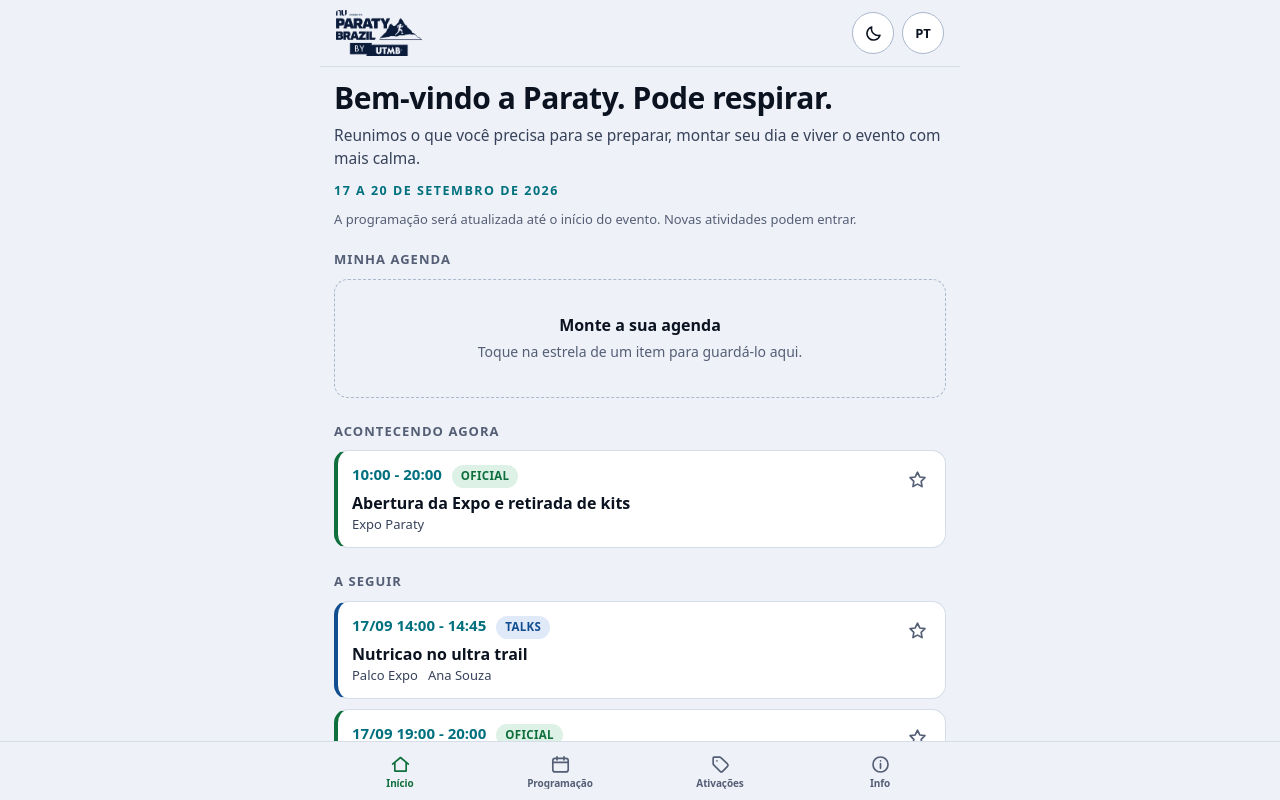
Test: App › fecha o menu de idioma com Escape
The width and height of the screenshot is (1280, 800).
Check: the navigation bar is shown, box [320,742,960,799]
Click the button named "trocar idioma". click: (923, 33)
box: [902,12,944,54]
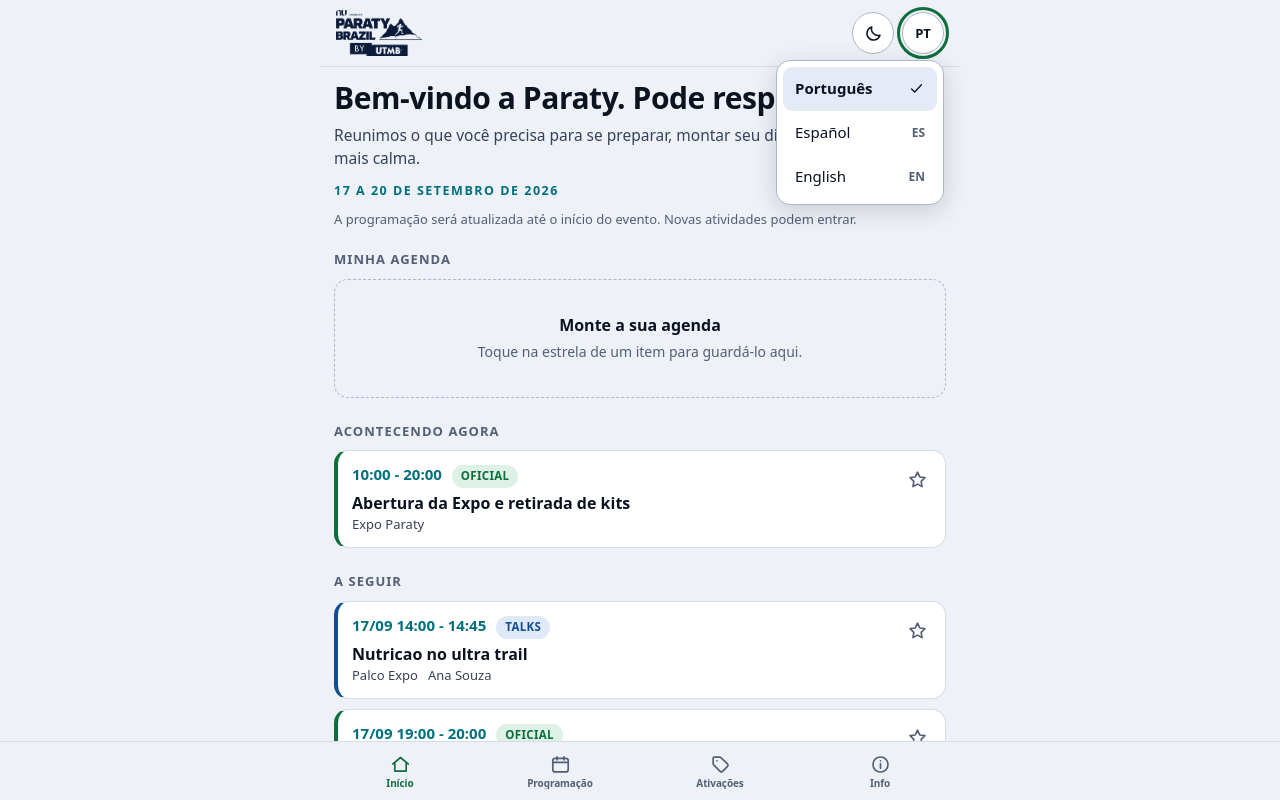
Check: the menu is shown, box [776,60,944,205]
Press Escape
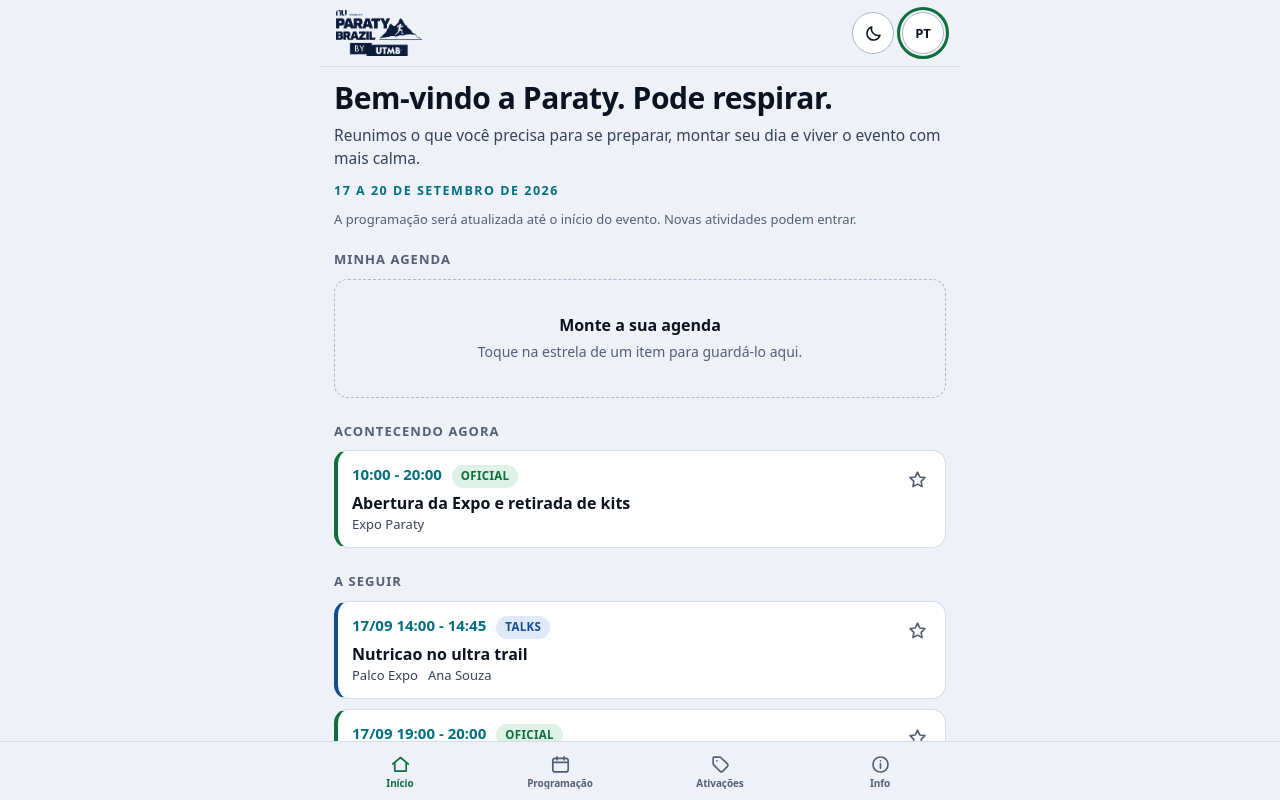
Check: the menu is gone
